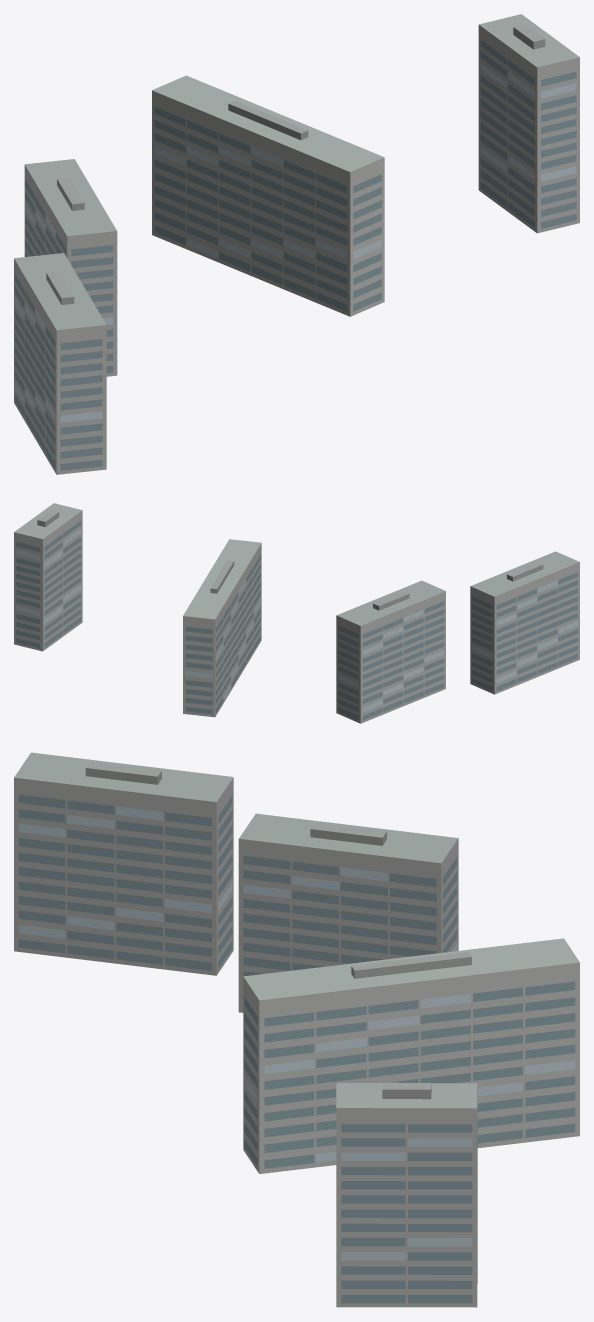
The model's file is apt-a13203102.glb.
3 renders of one model, top to bottom at view 1: azimuth 30°, elevation 25°; view 2: azimuth 150°, elevation 25°; view 3: azimuth 270°, elevation 25°, orthographic. The views are drawn at different scales.
Visible parts, largest first — view 1: apt-a13203102; view 2: apt-a13203102; view 3: apt-a13203102.
Part boxes in pixels (bbox=[...]): apt-a13203102: bbox=[14, 14, 579, 474]; apt-a13203102: bbox=[14, 503, 579, 723]; apt-a13203102: bbox=[14, 752, 579, 1307].
Size of the model in its own units: 153 by 39 by 95.9.
